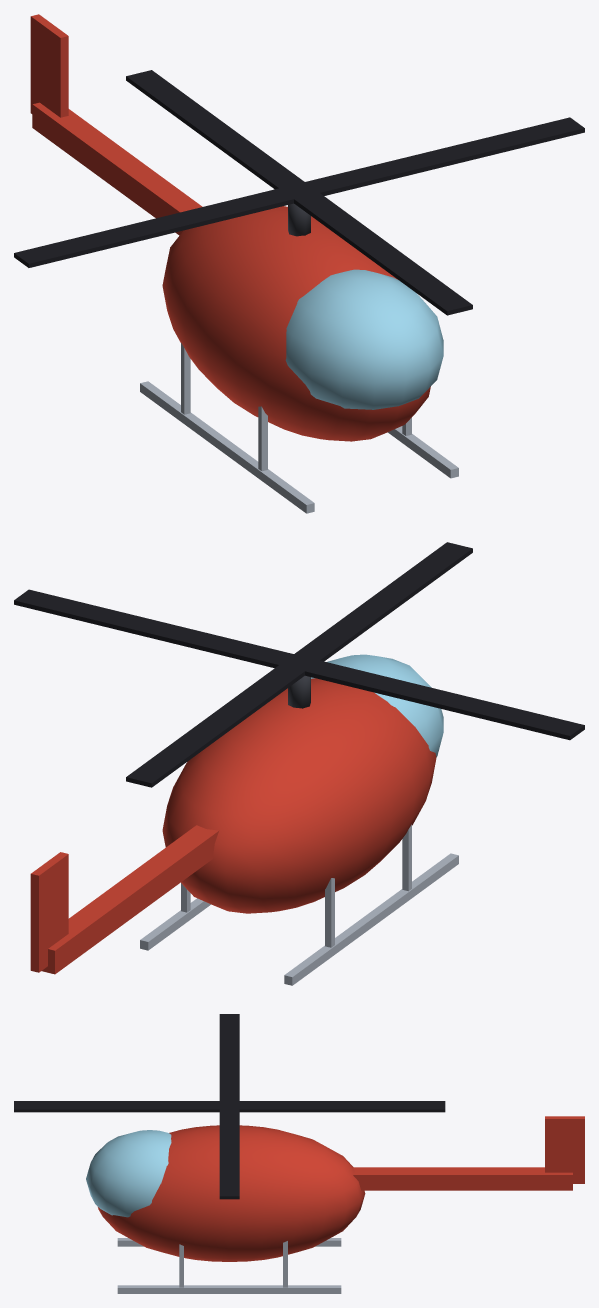
File: helicopter.glb
The picture shows the model from 3 angles, top to bottom: view 1: azimuth 30°, elevation 25°; view 2: azimuth 150°, elevation 25°; view 3: azimuth 270°, elevation 25°; orthographic projection. The views are drawn at different scales.
Visible parts, largest first — view 1: body, rotor; view 2: body, rotor; view 3: body, rotor.
Part boxes in pixels (left/top/right/bottom): body: left=30, top=14, right=458, bottom=513; rotor: left=14, top=70, right=584, bottom=315; body: left=30, top=654, right=458, bottom=985; rotor: left=14, top=542, right=584, bottom=787; body: left=86, top=1116, right=584, bottom=1293; rotor: left=14, top=1014, right=445, bottom=1199.
Bounding box in the file's own units: 5.4 × 2.26 × 7.15.
